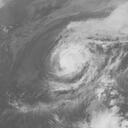cyclone: (41, 20, 112, 109)
